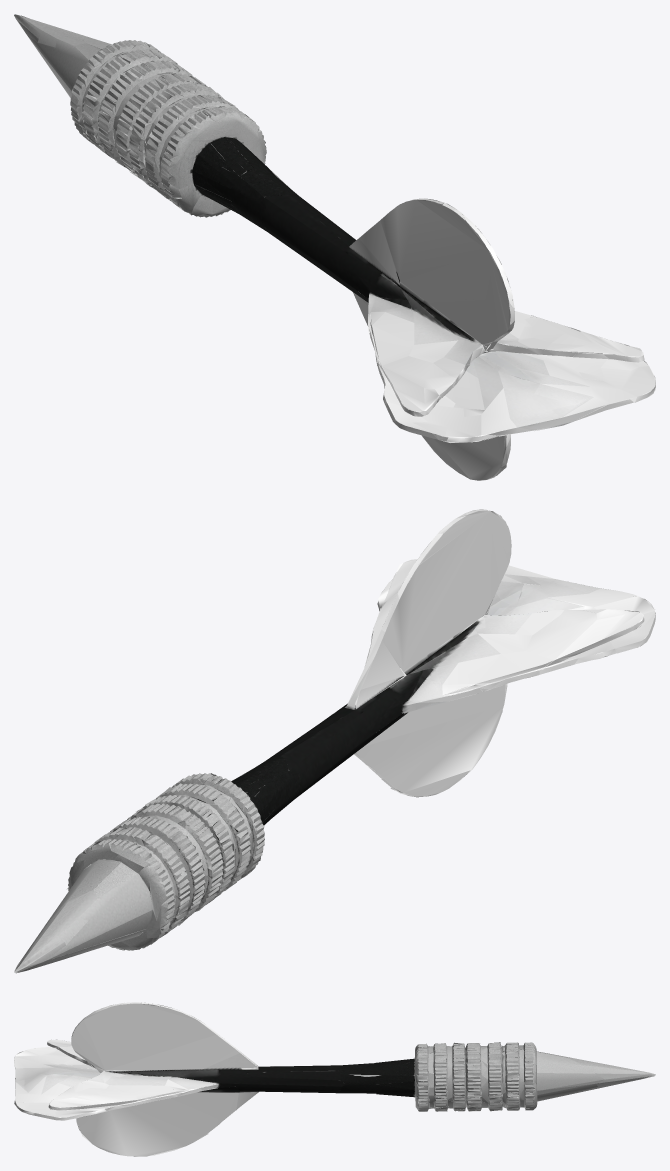
File: dart-steel.glb
3 renders of one model, top to bottom at view 1: azimuth 30°, elevation 25°; view 2: azimuth 150°, elevation 25°; view 3: azimuth 270°, elevation 25°, orthographic. The views are drawn at different scales.
Visible parts, largest first — view 1: dart; view 2: dart; view 3: dart.
Boxes of the visible parts, x1,y1,x2,y2 form: dart: (14, 14, 655, 480); dart: (14, 509, 655, 973); dart: (14, 1002, 655, 1156).
Size of the model in its own units: 0.0409 by 0.0408 by 0.155.
2 materials, 1 textured.
